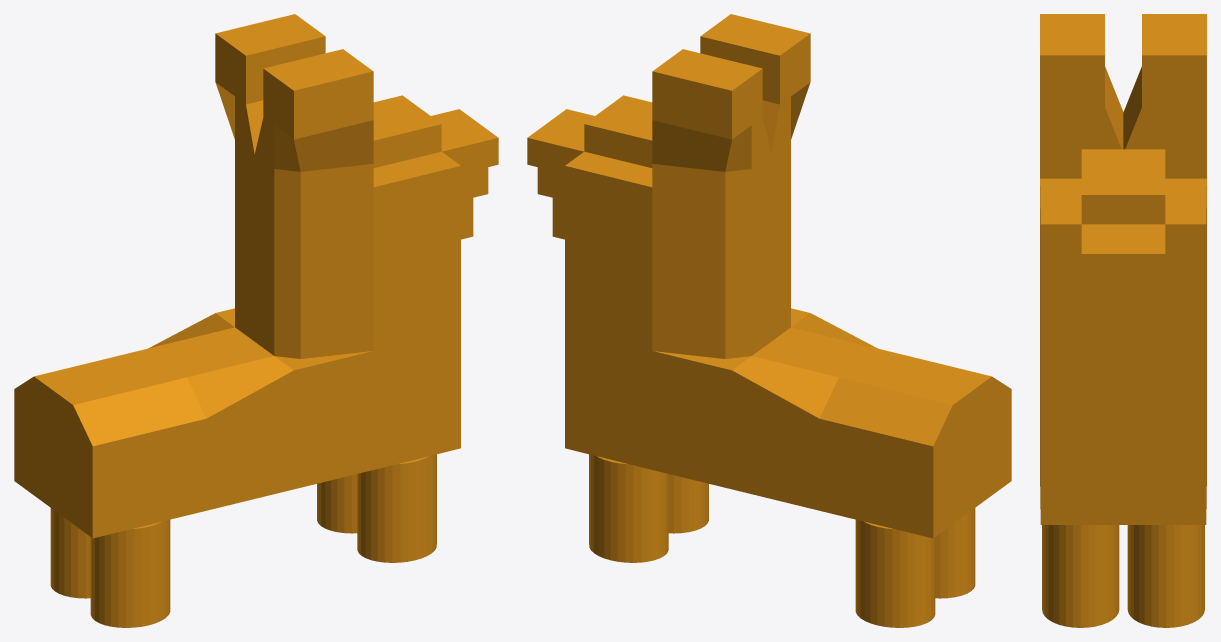
The model's file is Pinata.fbx.
3 views of the same model, side by side, from view 1: azimuth 30°, elevation 25°; view 2: azimuth 150°, elevation 25°; view 3: azimuth 270°, elevation 25° (orthographic). The views are drawn at different scales.
Parts seen in each view (by area): view 1: Plane; view 2: Plane; view 3: Plane.
Part boxes in pixels (bbox=[...]): Plane: bbox=[14, 14, 498, 627]; Plane: bbox=[527, 14, 1011, 627]; Plane: bbox=[1040, 14, 1206, 627].
Bounding box in the file's own units: 748 × 840 × 239.
